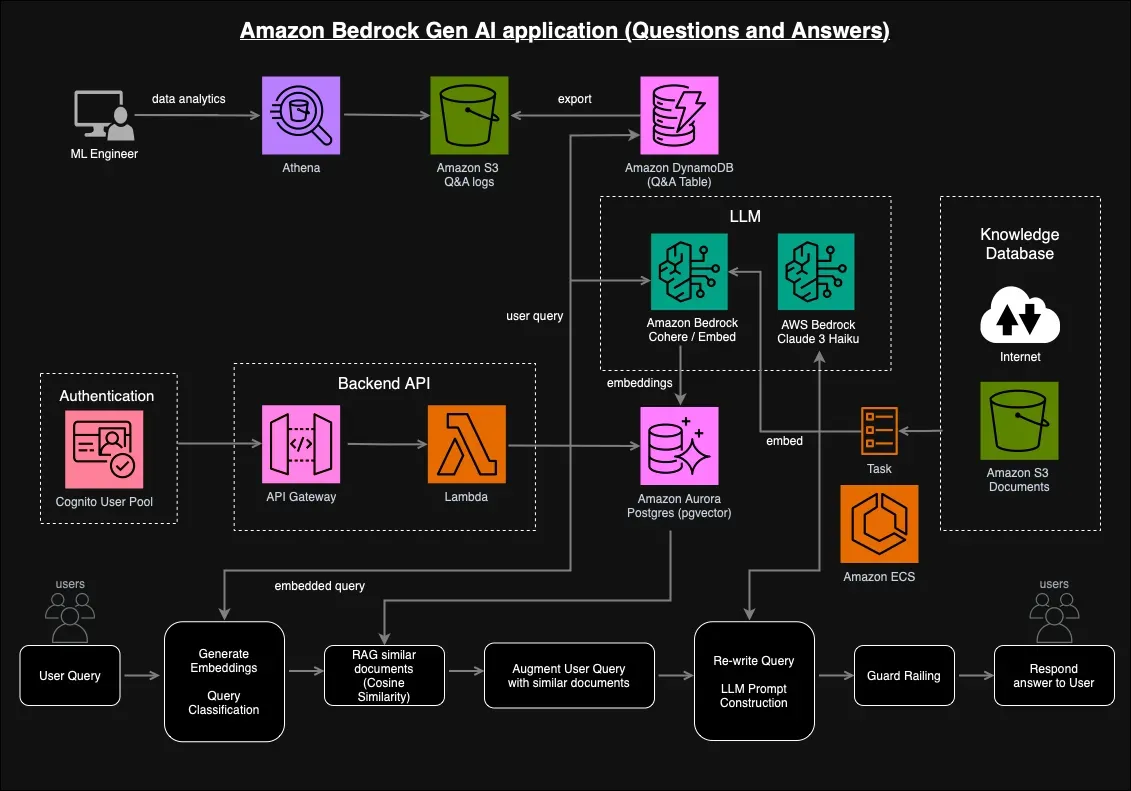api gateway: (263, 406, 341, 485)
athena: (262, 76, 340, 156)
aurora: (640, 406, 718, 486)
bedrock: (779, 235, 855, 311), (653, 235, 727, 311)
cognito: (67, 411, 140, 489)
dynamodb: (641, 77, 719, 154)
ecs: (843, 485, 920, 565)
lambda: (429, 407, 504, 483)
s3: (981, 383, 1057, 461), (432, 78, 507, 156)
